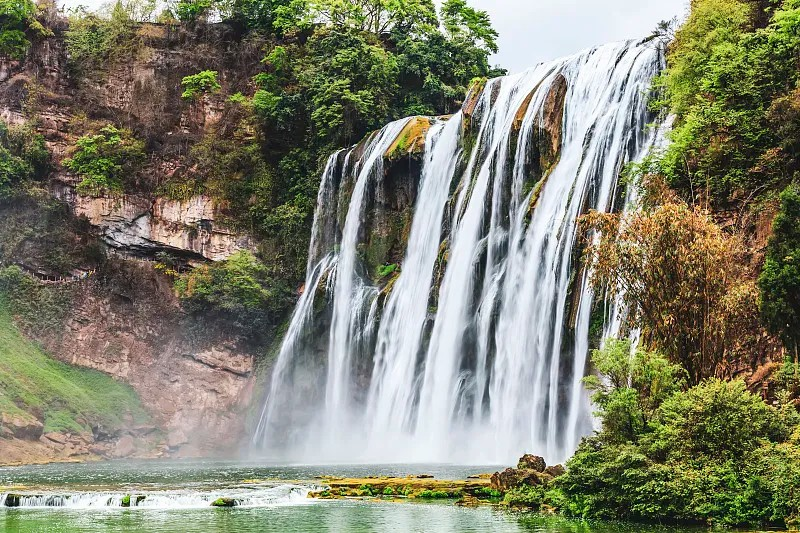Huangguoshu: (261, 38, 673, 470)
